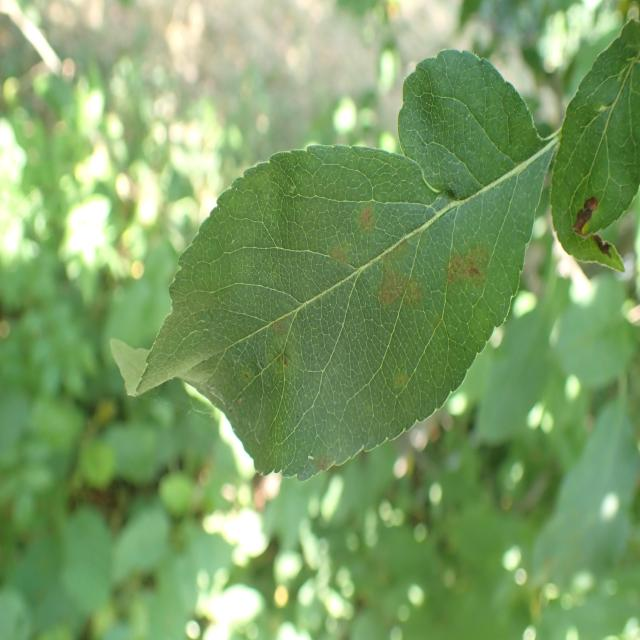scab: (165, 132, 501, 486)
